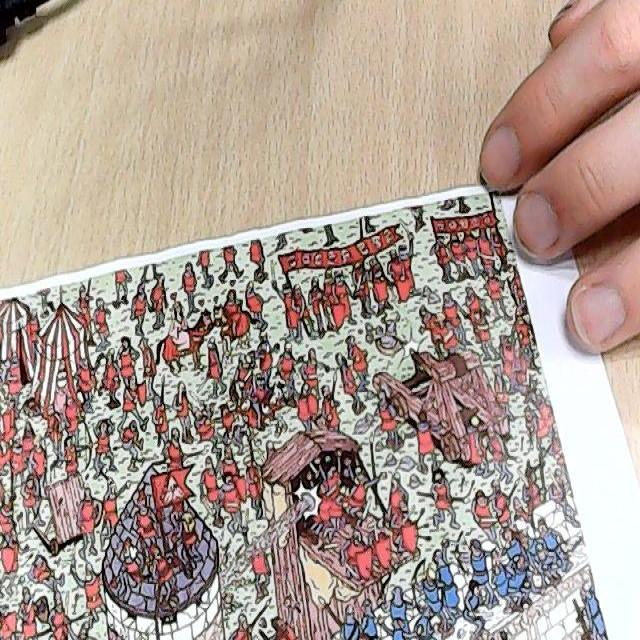waldo: (312, 406, 328, 434)
